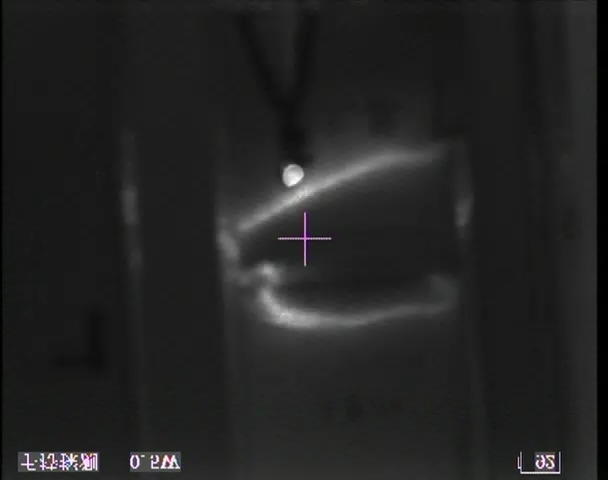my: (280, 161, 307, 189)
